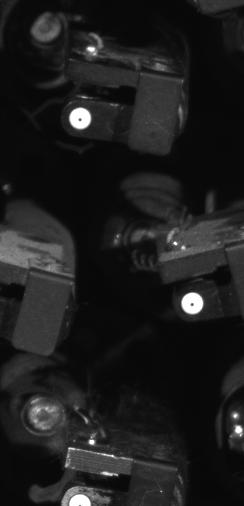fiber: (178, 288, 209, 321), (65, 105, 95, 134), (66, 491, 94, 506)
